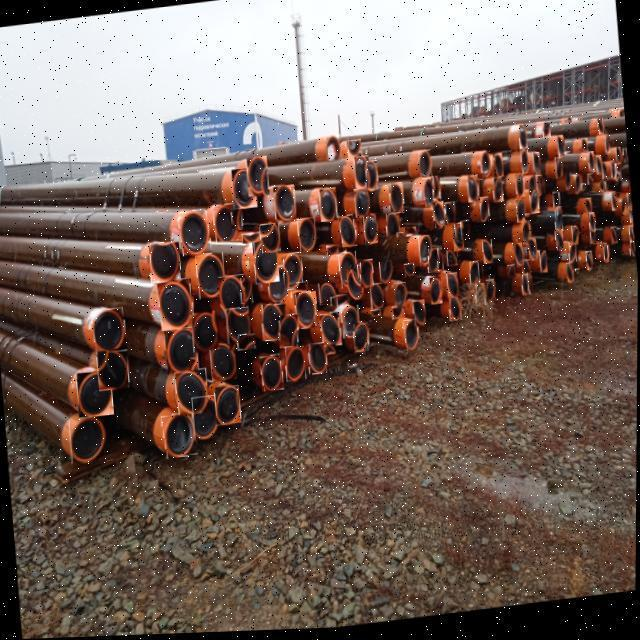pipe: (157, 279, 195, 332), (69, 417, 107, 464), (162, 412, 198, 460), (78, 371, 114, 418), (91, 308, 127, 355), (178, 209, 212, 258), (175, 369, 210, 416), (167, 326, 199, 374), (195, 254, 226, 300), (192, 396, 222, 441), (98, 350, 130, 391), (218, 276, 247, 319), (150, 243, 180, 283), (191, 313, 219, 353), (254, 242, 279, 285), (210, 344, 237, 382), (213, 205, 239, 244), (232, 169, 256, 211), (216, 387, 241, 426), (226, 308, 251, 345), (273, 186, 297, 224), (260, 356, 284, 393), (263, 305, 285, 343), (270, 267, 291, 306), (247, 159, 268, 197), (338, 254, 359, 291), (320, 314, 342, 349), (285, 348, 306, 384), (296, 294, 316, 330), (340, 307, 361, 341), (284, 255, 303, 292), (297, 219, 317, 254), (259, 224, 281, 255), (320, 190, 338, 224), (339, 217, 357, 250), (346, 272, 365, 303), (280, 317, 298, 349), (403, 322, 420, 353), (309, 346, 326, 376), (355, 158, 370, 190), (422, 180, 438, 210), (363, 216, 378, 247), (354, 190, 369, 220), (419, 238, 433, 269), (325, 137, 341, 163), (319, 284, 337, 307), (431, 204, 446, 231), (355, 326, 369, 354), (390, 186, 403, 216), (370, 285, 384, 311), (394, 285, 408, 311), (419, 152, 432, 180), (480, 154, 493, 181), (412, 303, 426, 328), (241, 279, 253, 306), (361, 262, 373, 289), (452, 228, 464, 255), (366, 164, 377, 193), (430, 281, 442, 307), (450, 298, 462, 324), (447, 276, 459, 301), (428, 251, 440, 276), (482, 242, 494, 267), (387, 216, 400, 239), (380, 263, 393, 286), (469, 178, 479, 205), (238, 336, 255, 351), (514, 246, 524, 271), (521, 224, 531, 249), (515, 176, 525, 201), (520, 153, 530, 178), (469, 264, 479, 288), (445, 205, 456, 226), (242, 233, 261, 245), (481, 200, 490, 225), (348, 142, 361, 159), (232, 209, 242, 231), (494, 157, 503, 181), (494, 181, 503, 205), (539, 254, 548, 277), (528, 241, 537, 264), (487, 282, 496, 304), (516, 202, 524, 226), (531, 194, 539, 218), (476, 288, 485, 309), (555, 233, 564, 254), (532, 156, 540, 179), (555, 161, 563, 183), (520, 128, 527, 153), (434, 179, 441, 203), (447, 253, 457, 269), (574, 178, 582, 198), (296, 283, 309, 295), (326, 246, 340, 257), (404, 265, 415, 279), (555, 214, 562, 236), (528, 178, 537, 195), (462, 224, 470, 243), (585, 255, 593, 274), (522, 278, 529, 299), (336, 296, 348, 308), (392, 309, 403, 322), (570, 246, 577, 266), (567, 267, 574, 286), (610, 165, 617, 184), (557, 139, 563, 161), (522, 263, 531, 277), (507, 268, 516, 282), (325, 346, 336, 357), (456, 226, 464, 241), (596, 159, 602, 179), (565, 177, 572, 194), (601, 167, 608, 184), (611, 231, 618, 248), (527, 275, 533, 294), (572, 230, 578, 249), (611, 196, 617, 215), (553, 195, 560, 211), (538, 178, 543, 200), (603, 248, 609, 266), (615, 168, 621, 186), (604, 139, 610, 157), (585, 202, 592, 217), (543, 126, 550, 141), (589, 156, 594, 177), (438, 252, 443, 272), (615, 152, 621, 168), (598, 122, 604, 138), (590, 217, 595, 236), (581, 142, 588, 155), (371, 311, 381, 320), (406, 230, 417, 238), (629, 230, 634, 247), (489, 278, 495, 292), (478, 266, 484, 280), (338, 247, 347, 256), (536, 179, 540, 198), (191, 358, 197, 370), (590, 234, 595, 248), (587, 178, 593, 189), (358, 267, 363, 280), (541, 181, 545, 197), (622, 202, 626, 218), (627, 197, 631, 213), (623, 153, 627, 167), (631, 246, 635, 260), (629, 213, 633, 227), (331, 299, 336, 308), (557, 211, 562, 220), (230, 344, 236, 351), (397, 235, 404, 240), (581, 188, 586, 195), (605, 186, 608, 196), (601, 186, 604, 195), (619, 114, 623, 120), (567, 121, 572, 125), (525, 217, 530, 220), (575, 273, 580, 276), (566, 155, 570, 158), (579, 122, 582, 125), (601, 246, 602, 249)
